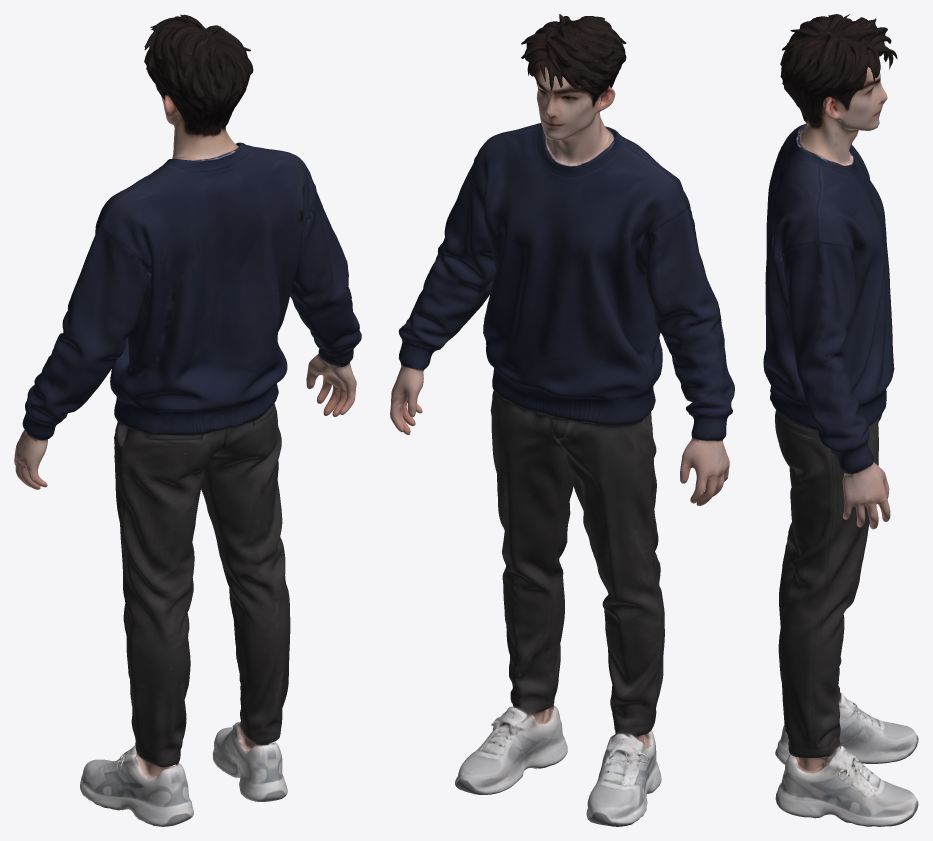
File: campus_student_unrigged.glb
The picture shows the model from 3 angles, left to right: view 1: azimuth 30°, elevation 25°; view 2: azimuth 150°, elevation 25°; view 3: azimuth 270°, elevation 25°; orthographic projection.
Visible parts, largest first — view 1: CampusStudentSkin; view 2: CampusStudentSkin; view 3: CampusStudentSkin.
Part boxes in pixels (bbox=[...]): CampusStudentSkin: bbox=[14, 14, 361, 826]; CampusStudentSkin: bbox=[390, 14, 734, 826]; CampusStudentSkin: bbox=[763, 14, 918, 826].
Size of the model in its own units: 1.26 by 2.82 by 0.516.
1 material, 1 textured.
